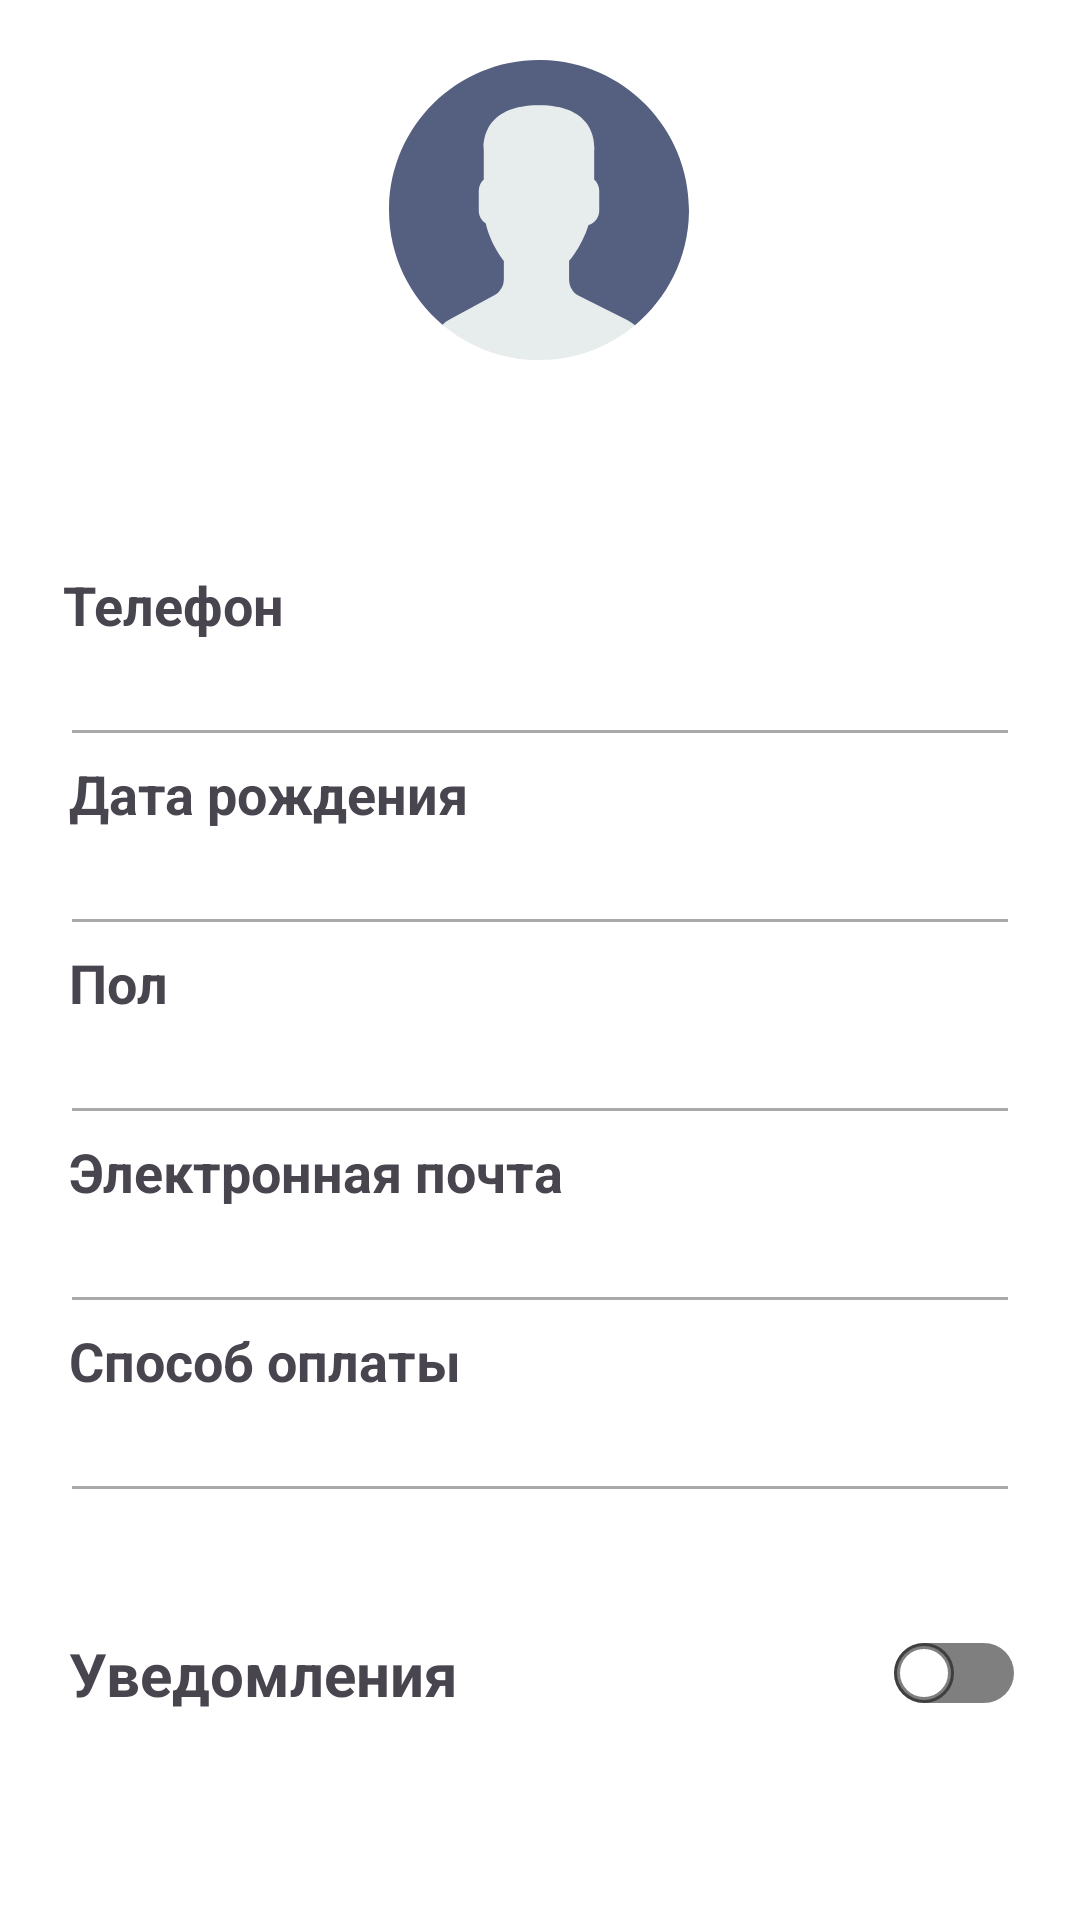

Named icons in this screenshot (1080*1920) and their bounding boxes, (x1, y1, x2, y2):
authorized profile picture: (389, 60, 689, 325)
